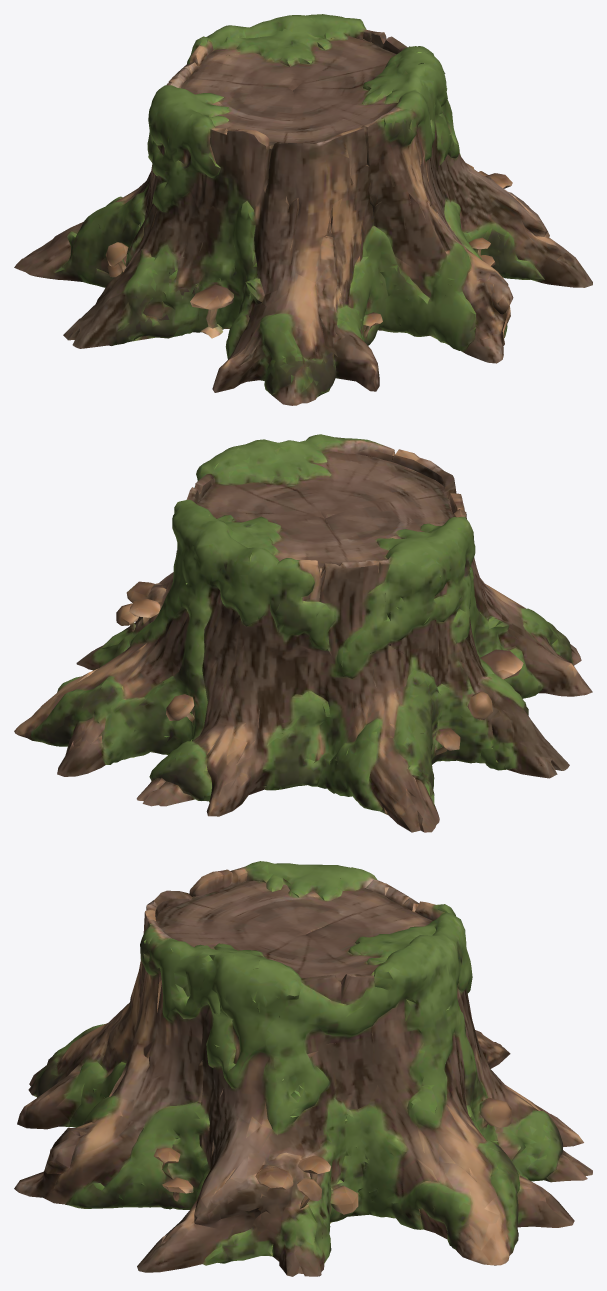
Rendered from StumpMushroom.glb.
3 views of the same model, one above another, from view 1: azimuth 30°, elevation 25°; view 2: azimuth 150°, elevation 25°; view 3: azimuth 270°, elevation 25° (orthographic). The views are drawn at different scales.
Parts seen in each view (by area): view 1: StumpMushroom; view 2: StumpMushroom; view 3: StumpMushroom.
Part boxes in pixels (x1,y1,x2,y2): StumpMushroom: (14, 14, 592, 405); StumpMushroom: (14, 434, 592, 832); StumpMushroom: (14, 861, 592, 1276).
Size of the model in its own units: 1.68 by 0.7714 by 1.64.
1 material, 1 textured.
